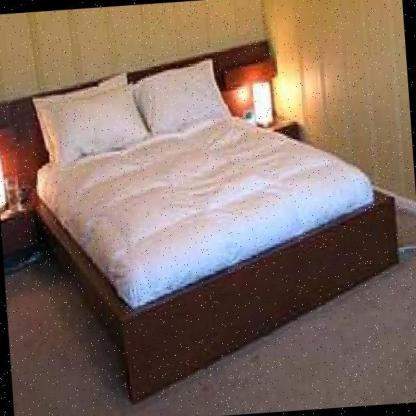Bed: (6, 38, 412, 409)
